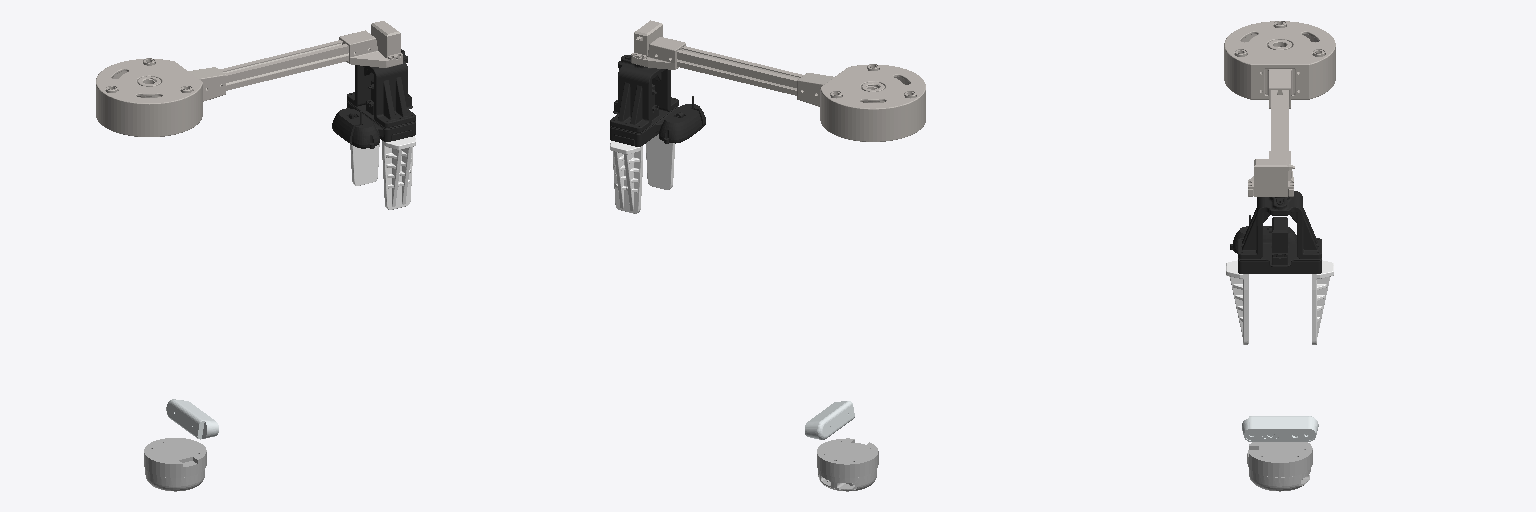
URDF robot description (robot_description):
<?xml version="1.0" encoding="utf-8"?>
<!-- This URDF was automatically created by SolidWorks to URDF Exporter! Originally created by [author] ([email redacted]) 
     Commit Version: 1.6.0-4-g7f85cfe  Build Version: 1.6.7995.38578
     For more information, please see http://wiki.ros.org/sw_urdf_exporter -->
<robot
  name="robot_description">
  <link
    name="base_link">
    <inertial>
      <origin
        xyz="-0.19682 -0.0081466 0.074044"
        rpy="0 0 0" />
      <mass
        value="3.6752" />
      <inertia
        ixx="0.007798"
        ixy="2.3508E-05"
        ixz="-0.00067159"
        iyy="0.017951"
        iyz="-2.0373E-06"
        izz="0.023321" />
    </inertial>
    <visual>
      <origin
        xyz="0 0 0"
        rpy="0 0 0" />
      <geometry>
        <mesh
          filename="package://robot_description/meshes/base_link.STL" />
      </geometry>
      <material
        name="">
        <color
          rgba="0.52549 0.52549 0.52549 1" />
      </material>
    </visual>
    <collision>
      <origin
        xyz="0 0 0"
        rpy="0 0 0" />
      <geometry>
        <mesh
          filename="package://robot_description/meshes/base_link.STL" />
      </geometry>
    </collision>
  </link>
  <link
    name="plat_link">
    <inertial>
      <origin
        xyz="0.00099086 -1.3909E-06 0.20885"
        rpy="0 0 0" />
      <mass
        value="0.64412" />
      <inertia
        ixx="0.003989"
        ixy="4.8134E-10"
        ixz="8.3528E-06"
        iyy="0.0039716"
        iyz="1.7874E-10"
        izz="0.00091739" />
    </inertial>
    <visual>
      <origin
        xyz="0 0 0"
        rpy="0 0 0" />
      <geometry>
        <mesh
          filename="package://robot_description/meshes/plat_link.STL" />
      </geometry>
      <material
        name="">
        <color
          rgba="1 1 1 1" />
      </material>
    </visual>
    <collision>
      <origin
        xyz="0 0 0"
        rpy="0 0 0" />
      <geometry>
        <mesh
          filename="package://robot_description/meshes/plat_link.STL" />
      </geometry>
    </collision>
  </link>
  <joint
    name="plat_joint"
    type="revolute">
    <origin
      xyz="0 0 0"
      rpy="0 0 0" />
    <parent
      link="base_link" />
    <child
      link="plat_link" />
    <axis
      xyz="0 0 1" />
    <limit
      lower="-3.4034"
      upper="3.4034"
      effort="100"
      velocity="0.7854" />
  </joint>
  <link
    name="manip_link">
    <inertial>
      <origin
        xyz="0.076517 -0.0013059 0.097761"
        rpy="0 0 0" />
      <mass
        value="0.36819" />
      <inertia
        ixx="0.00035713"
        ixy="1.0767E-06"
        ixz="-2.4262E-06"
        iyy="0.00049034"
        iyz="-9.4946E-07"
        izz="0.00074443" />
    </inertial>
    <visual>
      <origin
        xyz="0 0 0"
        rpy="0 0 0" />
      <geometry>
        <mesh
          filename="package://robot_description/meshes/manip_link.STL" />
      </geometry>
      <material
        name="">
        <color
          rgba="0.78039 0.76078 0.74118 1" />
      </material>
    </visual>
    <collision>
      <origin
        xyz="0 0 0"
        rpy="0 0 0" />
      <geometry>
        <mesh
          filename="package://robot_description/meshes/manip_link.STL" />
      </geometry>
    </collision>
  </link>
  <joint
    name="manip_joint"
    type="prismatic">
    <origin
      xyz="0 0 0"
      rpy="0 0 0" />
    <parent
      link="plat_link" />
    <child
      link="manip_link" />
    <axis
      xyz="0 0 1" />
    <limit
      lower="0.075"
      upper="0.51"
      effort="100"
      velocity="0.0435" />
  </joint>
  <link
    name="pulso_link">
    <inertial>
      <origin
        xyz="0.0086943 -0.0041036 0.058037"
        rpy="0 0 0" />
      <mass
        value="0.21268" />
      <inertia
        ixx="0.00017045"
        ixy="5.2882E-06"
        ixz="-7.2239E-07"
        iyy="9.9587E-05"
        iyz="-4.4711E-07"
        izz="0.00016302" />
    </inertial>
    <visual>
      <origin
        xyz="0 0 0"
        rpy="0 0 0" />
      <geometry>
        <mesh
          filename="package://robot_description/meshes/pulso_link.STL" />
      </geometry>
      <material
        name="">
        <color
          rgba="0.22353 0.22353 0.22353 1" />
      </material>
    </visual>
    <collision>
      <origin
        xyz="0 0 0"
        rpy="0 0 0" />
      <geometry>
        <mesh
          filename="package://robot_description/meshes/pulso_link.STL" />
      </geometry>
    </collision>
  </link>
  <joint
    name="pulso_joint"
    type="revolute">
    <origin
      xyz="0.325 0 0.07557"
      rpy="-3.1416 0 3.14159" />
    <parent
      link="manip_link" />
    <child
      link="pulso_link" />
    <axis
      xyz="0 0 1" />
    <limit
      lower="-1.5708"
      upper="1.5708"
      effort="100"
      velocity="1.5708" />
  </joint>
  <link
    name="garra1_link">
    <inertial>
      <origin
        xyz="-0.0011844 -0.041008 0.044682"
        rpy="0 0 0" />
      <mass
        value="0.038406" />
      <inertia
        ixx="3.7119E-05"
        ixy="1.1462E-06"
        ixz="-2.0278E-06"
        iyy="3.7808E-05"
        iyz="1.4488E-06"
        izz="8.151E-06" />
    </inertial>
    <visual>
      <origin
        xyz="0 0 0"
        rpy="0 0 0" />
      <geometry>
        <mesh
          filename="package://robot_description/meshes/garra1_link.STL" />
      </geometry>
      <material
        name="">
        <color
          rgba="1 1 1 1" />
      </material>
    </visual>
    <collision>
      <origin
        xyz="0 0 0"
        rpy="0 0 0" />
      <geometry>
        <mesh
          filename="package://robot_description/meshes/garra1_link.STL" />
      </geometry>
    </collision>
  </link>
  <joint
    name="garra1_joint"
    type="prismatic">
    <origin
      xyz="0 0 0.0794"
      rpy="0 0 0" />
    <parent
      link="pulso_link" />
    <child
      link="garra1_link" />
    <axis
      xyz="0 1 0" />
    <limit
      lower="-0.035"
      upper="0"
      effort="100"
      velocity="0.035" />
  </joint>
  <link
    name="garra2_link">
    <inertial>
      <origin
        xyz="0.0011844 0.041111 0.044682"
        rpy="0 0 0" />
      <mass
        value="0.038406" />
      <inertia
        ixx="3.7119E-05"
        ixy="1.1462E-06"
        ixz="2.0278E-06"
        iyy="3.7808E-05"
        iyz="-1.4488E-06"
        izz="8.151E-06" />
    </inertial>
    <visual>
      <origin
        xyz="0 0 0"
        rpy="0 0 0" />
      <geometry>
        <mesh
          filename="package://robot_description/meshes/garra2_link.STL" />
      </geometry>
      <material
        name="">
        <color
          rgba="1 1 1 1" />
      </material>
    </visual>
    <collision>
      <origin
        xyz="0 0 0"
        rpy="0 0 0" />
      <geometry>
        <mesh
          filename="package://robot_description/meshes/garra2_link.STL" />
      </geometry>
    </collision>
  </link>
  <joint
    name="garra2_joint"
    type="prismatic">
    <origin
      xyz="0 0 0.0794"
      rpy="0 0 0" />
    <parent
      link="pulso_link" />
    <child
      link="garra2_link" />
    <axis
      xyz="0 1 0" />
    <limit
      lower="0"
      upper="0.035"
      effort="100"
      velocity="0.035" />
  </joint>
  <link
    name="camera_link">
    <inertial>
      <origin
        xyz="-0.013512 0.0009328 6.2629E-07"
        rpy="0 0 0" />
      <mass
        value="0.087339" />
      <inertia
        ixx="5.2376E-05"
        ixy="5.8423E-07"
        ixz="1.5739E-12"
        iyy="7.6539E-06"
        iyz="-8.6011E-11"
        izz="5.2721E-05" />
    </inertial>
    <visual>
      <origin
        xyz="0 0 0"
        rpy="0 0 0" />
      <geometry>
        <mesh
          filename="package://robot_description/meshes/realsense_link.STL" />
      </geometry>
      <material
        name="">
        <color
          rgba="0.89804 0.92157 0.92941 1" />
      </material>
    </visual>
    <collision>
      <origin
        xyz="0 0 0"
        rpy="0 0 0" />
      <geometry>
        <mesh
          filename="package://robot_description/meshes/realsense_link.STL" />
      </geometry>
    </collision>
  </link>
  <joint
    name="camera_joint"
    type="fixed">
    <origin
      xyz="0.072916 0 -0.058189"
      rpy="0 0.17453 0" />
    <parent
      link="base_link" />
    <child
      link="camera_link" />
    <axis
      xyz="0 0 0" />
  </joint>

  <link
    name="laser">
    <inertial>
      <origin
        xyz="-0.00056545 1.4938E-05 0.011701"
        rpy="0 0 1.57" />
      <mass
        value="0.16538" />
      <inertia
        ixx="7.8865E-05"
        ixy="-4.8472E-08"
        ixz="-2.1848E-06"
        iyy="7.519E-05"
        iyz="2.886E-08"
        izz="0.00010995" />
    </inertial>
    <visual>
      <origin
        xyz="0 0 0"
        rpy="0 0 0" />
      <geometry>
        <mesh
          filename="package://robot_description/meshes/lidar_link.STL" />
      </geometry>
      <material
        name="">
        <color
          rgba="0.75294 0.75294 0.75294 0.4" />
      </material>
    </visual>
    <collision>
      <origin
        xyz="0 0 0"
        rpy="0 0 0" />
      <geometry>
        <mesh
          filename="package://robot_description/meshes/lidar_link.STL" />
      </geometry>
    </collision>
  </link>
  <joint
    name="lidar_joint"
    type="fixed">
    <origin
      xyz="0.036445 0 -0.124"
      rpy="0 0 1.57" />
    <parent
      link="base_link" />
    <child
      link="laser" />
    <axis
      xyz="0 0 0" />
  </joint>

  <!-- Plugins -->
  <gazebo>
    <plugin name="object_controller" filename="libgazebo_ros_planar_move.so">
      <commandTopic>cmd_vel</commandTopic>
      <odometryTopic>odom</odometryTopic>
      <odometryFrame>odom</odometryFrame>
      <odometryRate>20.0</odometryRate>
      <robotBaseFrame>base_link</robotBaseFrame>
    </plugin>
  </gazebo>

  <gazebo reference="camera_link">
  <sensor type="imu" name="imu_sensor">
    <pose>0 0 0 0 0 0</pose>
    <update_rate>100</update_rate>
    <imu>
      <angular_velocity>
        <noise>
          <type>gaussian</type>
          <mean>0.0</mean>
          <stddev>0.0001</stddev>
        </noise>
      </angular_velocity>
      <linear_acceleration>
        <noise>
          <type>gaussian</type>
          <mean>0.0</mean>
          <stddev>0.0001</stddev>
        </noise>
      </linear_acceleration>
    </imu>
    <plugin name="imu_plugin" filename="libgazebo_ros_imu_sensor.so">
      <topicName>imu/data</topicName>
      <frameName>camera_link</frameName>
      <gaussianNoise>0.0001</gaussianNoise>
    </plugin>
  </sensor>
</gazebo>

<gazebo reference="laser">
  <sensor type="ray" name="lidar_sensor">
    <pose>0 0 0 0 0 0</pose>
    <update_rate>10</update_rate>
    <ray>
      <scan>
        <horizontal>
          <samples>360</samples>
          <resolution>1</resolution>
          <min_angle>0.0</min_angle>
          <max_angle>6.28319</max_angle>
        </horizontal>
      </scan>
      <range>
        <min>0.6</min>
        <max>12.0</max>
        <resolution>0.01</resolution>
      </range>
      <noise>
        <type>gaussian</type>
        <mean>0.0</mean>
        <stddev>0.01</stddev>
      </noise>
    </ray>
    <plugin name="lidar_plugin" filename="libgazebo_ros_laser.so">
      <topicName>scan</topicName>
      <frameName>laser</frameName>
    </plugin>
  </sensor>
</gazebo>
</robot>

--- Facts derived from the render (not from the file) ---
Views: 3 orthographic renders of the robot side by side, from view 1: azimuth 30°, elevation 25°; view 2: azimuth 150°, elevation 25°; view 3: azimuth 270°, elevation 25°.
Robot: robot_description — 8 links, 7 joints (2 revolute, 3 prismatic, 2 fixed); root link base_link; default pose: joints at zero except 1 at the middle of their limits (manip_joint = 0.2925).
Links seen in each view (by area): view 1: manip_link, pulso_link, laser, garra1_link, camera_link, garra2_link; view 2: manip_link, pulso_link, laser, garra2_link, garra1_link, camera_link; view 3: manip_link, pulso_link, laser, camera_link, garra1_link, garra2_link.
Boxes of the visible links, box(x1,y1,x2,y2) form: manip_link: box(96, 21, 402, 136); pulso_link: box(332, 49, 415, 148); laser: box(144, 438, 206, 491); garra1_link: box(382, 136, 415, 209); camera_link: box(166, 399, 218, 439); garra2_link: box(350, 143, 379, 185); manip_link: box(631, 20, 925, 141); pulso_link: box(610, 55, 705, 146); laser: box(817, 438, 878, 491); garra2_link: box(610, 141, 642, 213); garra1_link: box(646, 134, 674, 189); camera_link: box(805, 401, 854, 439); manip_link: box(1224, 21, 1335, 196); pulso_link: box(1230, 191, 1321, 273); laser: box(1247, 442, 1312, 491); camera_link: box(1242, 416, 1318, 441); garra1_link: box(1226, 260, 1248, 344); garra2_link: box(1312, 260, 1333, 344).
Size in the robot's own frame: 0.4295 by 0.1299 by 0.5473 metres.
Meshes: 8 distinct files referenced, 6 mesh visuals loaded (6 binary STL); not drawn: 2 (reference not matched to a file when rendering).